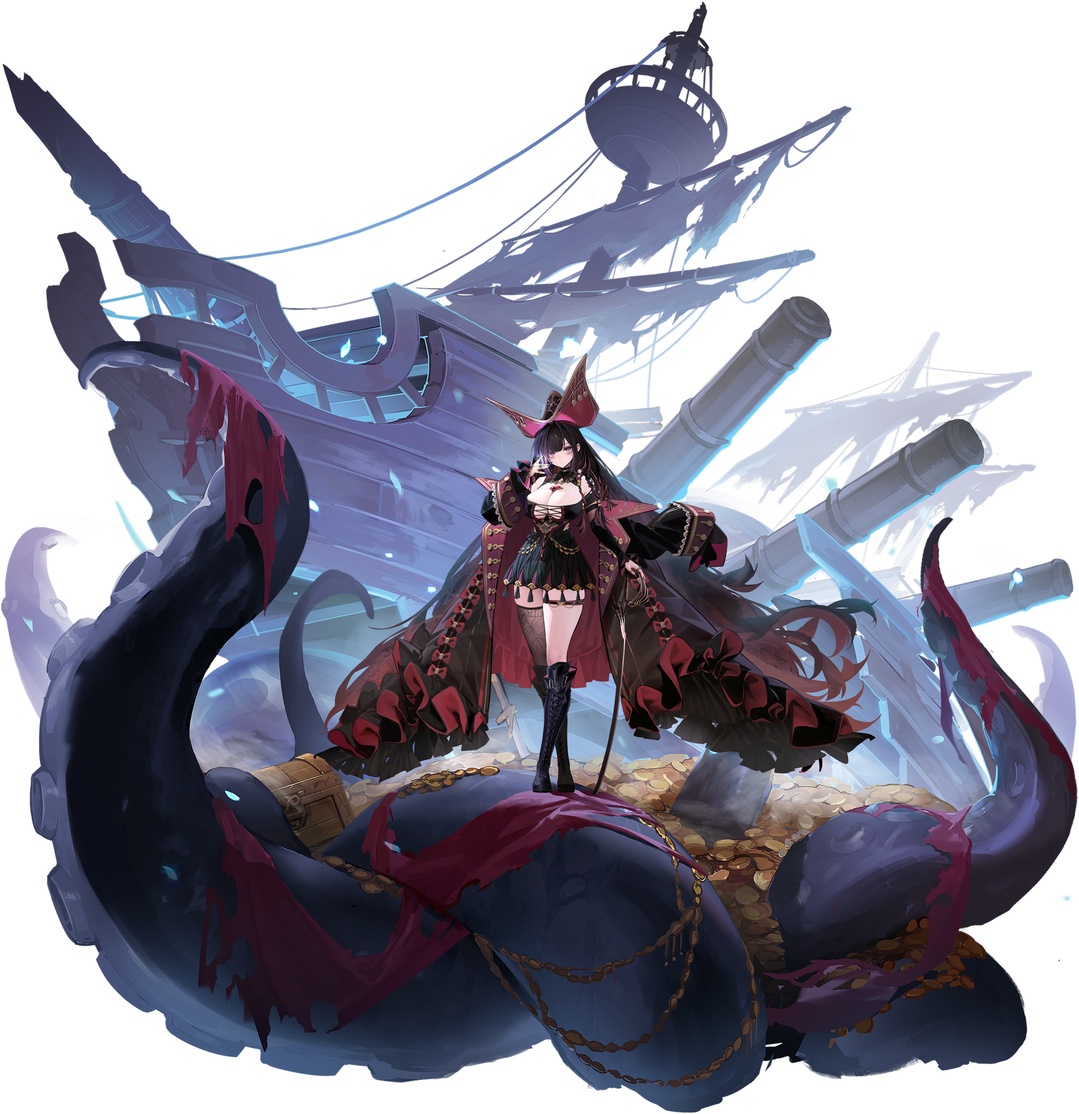person: (448, 323, 704, 882)
